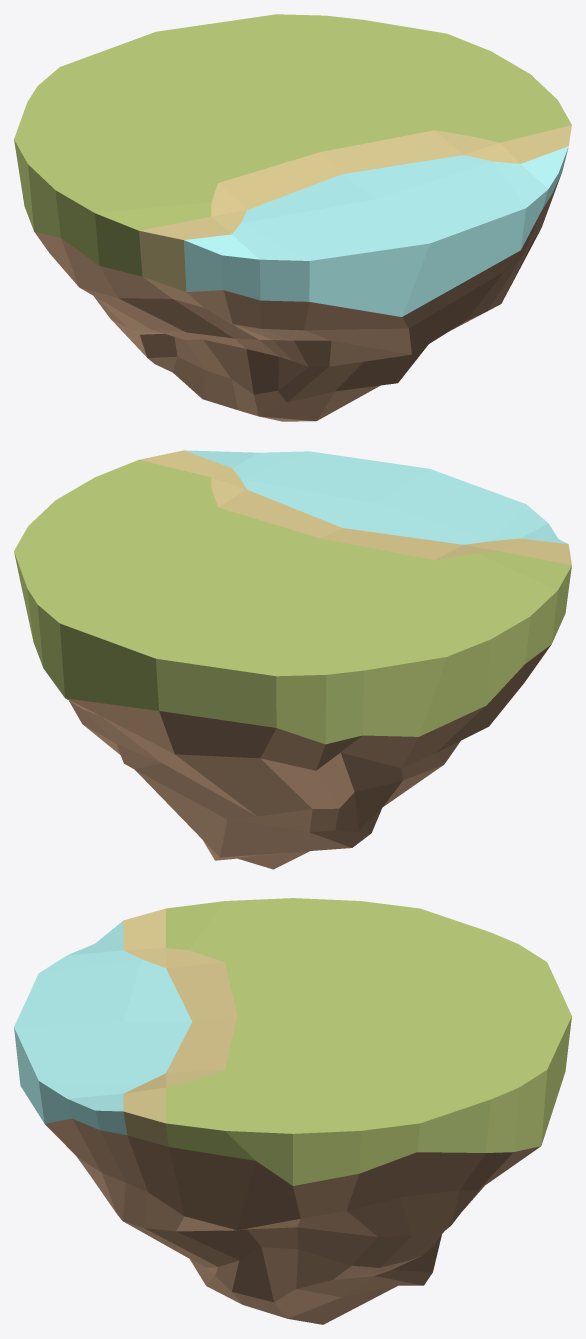
File: Island.fbx
The picture shows the model from 3 angles, top to bottom: view 1: azimuth 30°, elevation 25°; view 2: azimuth 150°, elevation 25°; view 3: azimuth 270°, elevation 25°; orthographic projection.
Visible parts, largest first — view 1: pasted__pCube1; view 2: pasted__pCube1; view 3: pasted__pCube1.
Boxes of the visible parts, box(x1,y1,x2,y2) form: pasted__pCube1: box(14, 14, 571, 421); pasted__pCube1: box(14, 450, 571, 869); pasted__pCube1: box(14, 898, 571, 1324).
Bounding box in the file's own units: 16.3 × 9.88 × 16.3.
